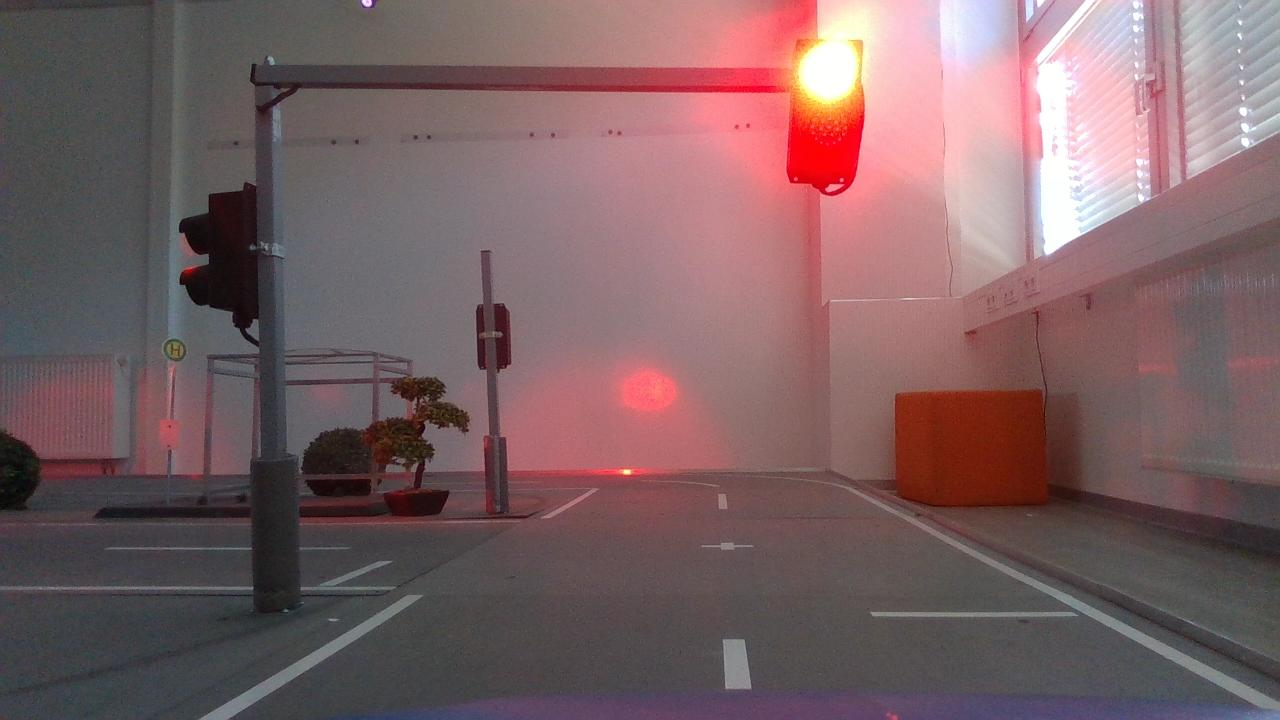traffic_light_red: (776, 23, 885, 201)
